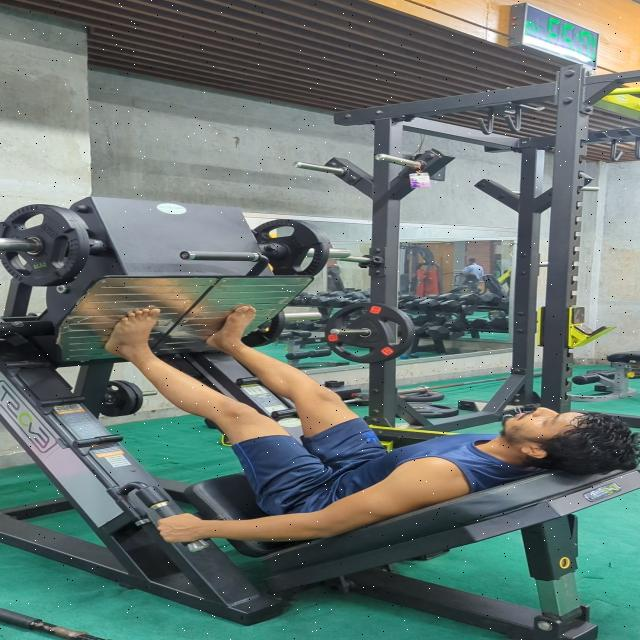Normal_LegPress: (89, 300, 637, 550)
